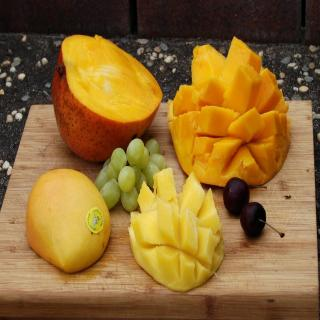Mango: (168, 38, 290, 188), (169, 37, 289, 189), (51, 35, 163, 162), (51, 36, 162, 162), (128, 168, 224, 293), (128, 170, 225, 293), (26, 170, 110, 276)
